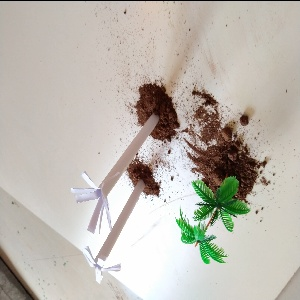plant: (175, 175, 253, 268)
weed: (68, 114, 146, 231), (81, 197, 150, 297)
